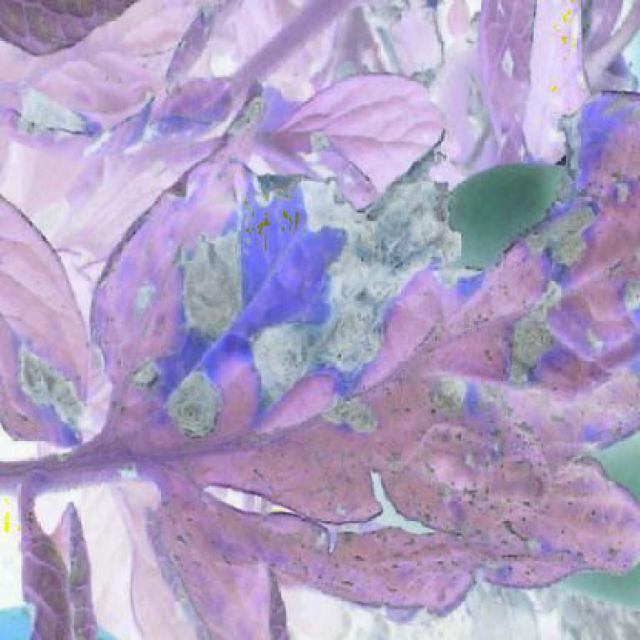Tomato Early blight leaf: (66, 142, 639, 626)
